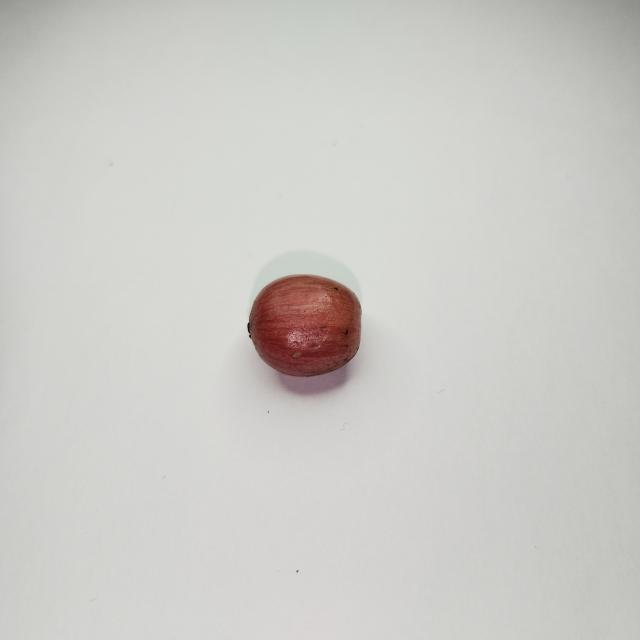Sano: (248, 276, 360, 376)
